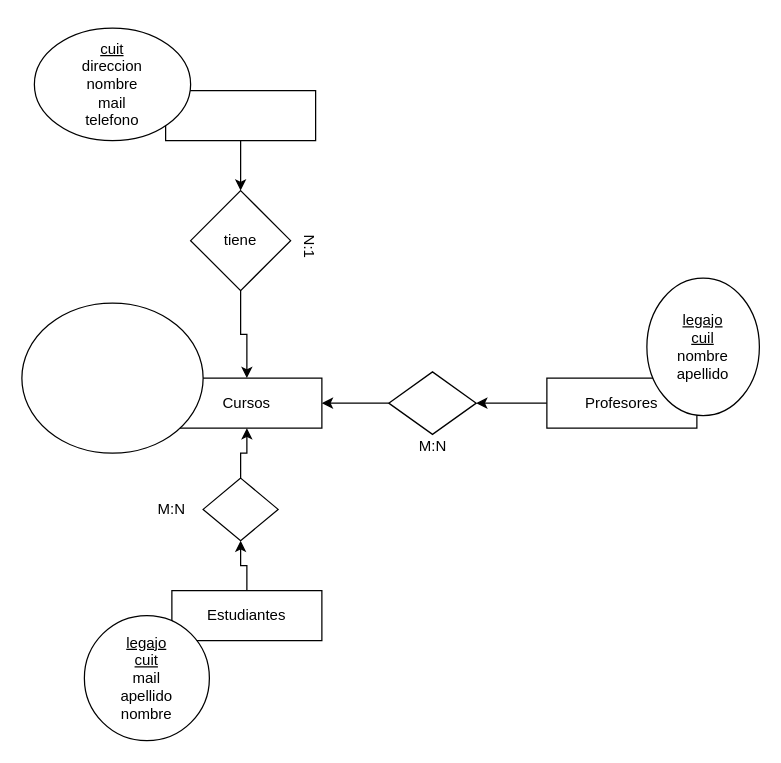
Some shapes in this 781 by 763 pixel diagram are drawn without their labels. Here are the shapes that lost their labels. From the top down, the centre of each, then its label:
the point at 240,115: Universidad
the point at 112,377: nombre ID_Universidad ID_Curso ID_profesor ID_estudiante modalidad
the point at 432,402: dicta
the point at 240,509: inscripto
